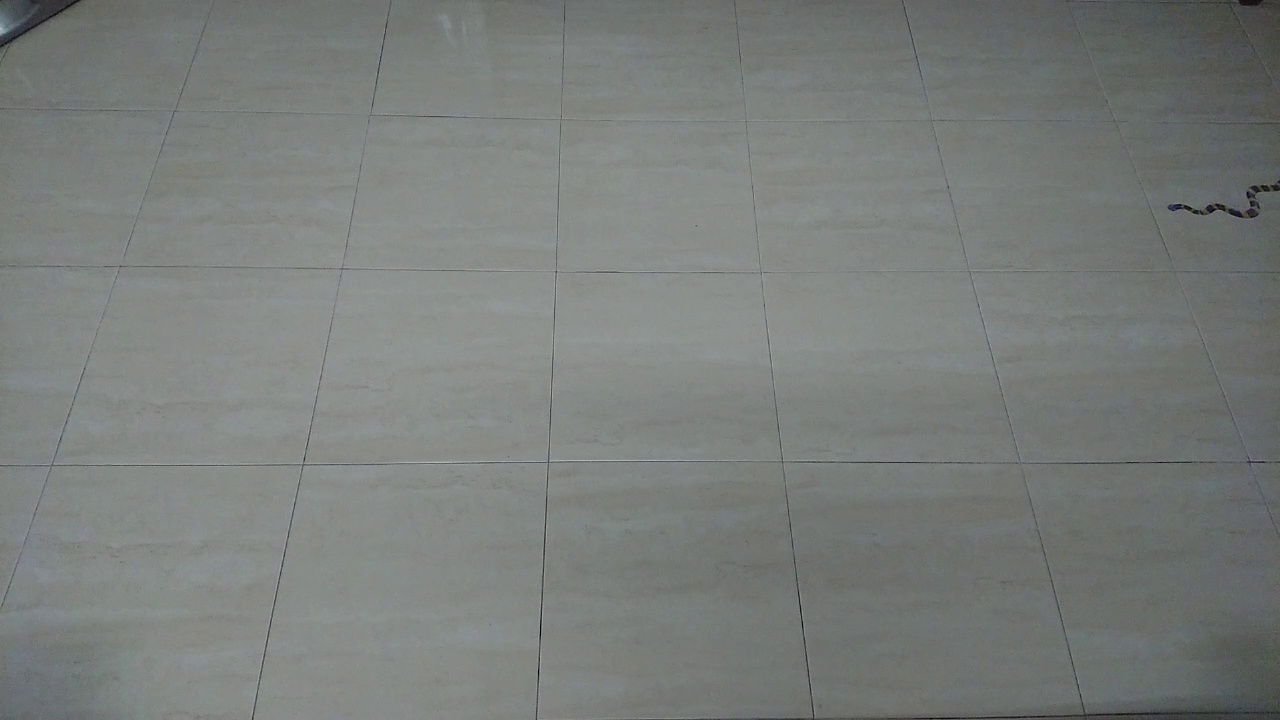snake: (1147, 162, 1280, 229)
